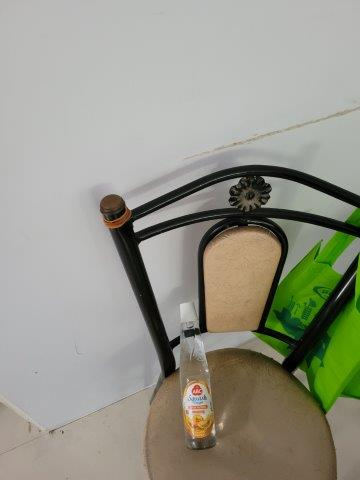botolkaca: (178, 302, 217, 451)
